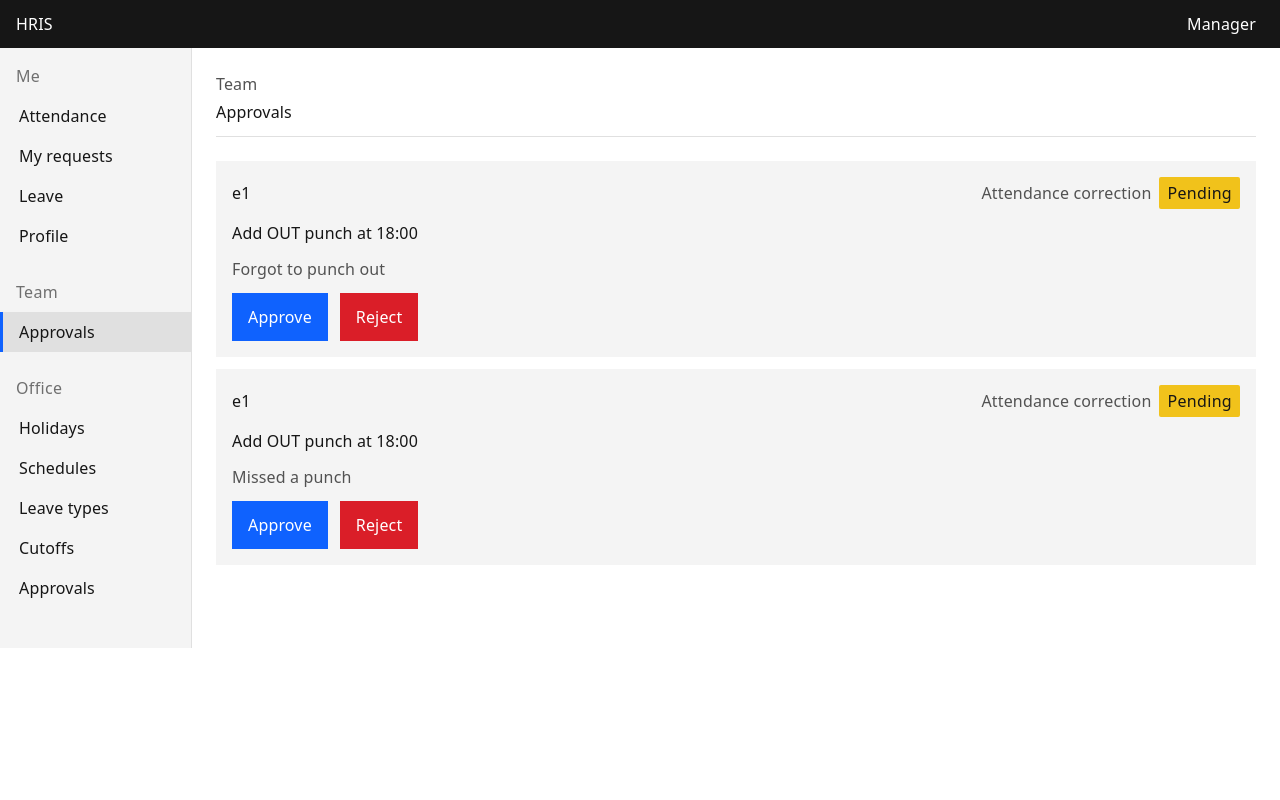
Test: /team/approvals — optimistic decide (the one place optimistic updates are allowed) › approving a request removes its card immediately, before the POST resolves
The image size is (1280, 800).
Expected: the text "Forgot to punch out" is shown, [232,258,385,280]
Expected: the text "Missed a punch" is shown, [232,466,352,488]
Click the button "Approve" below "Forgot to punch out": (280, 317) [232,293,328,341]
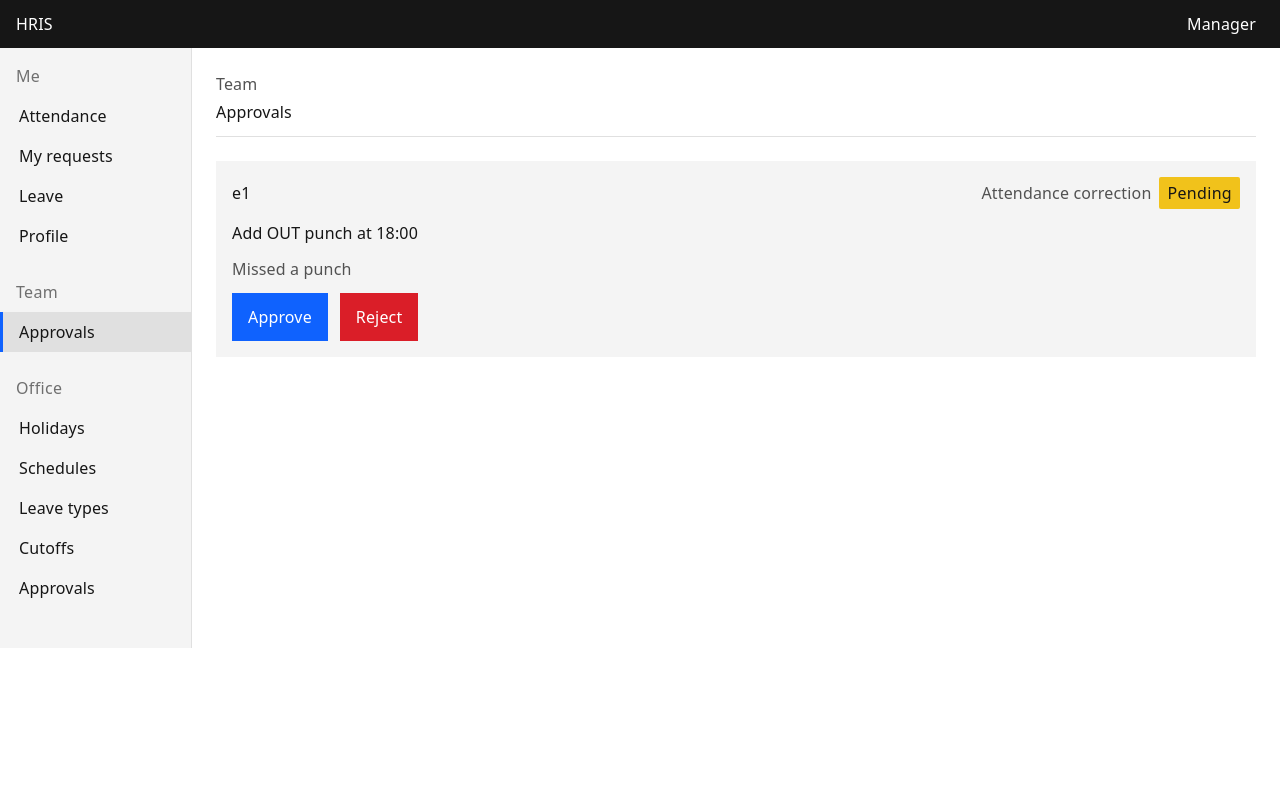
Expected: the text "Missed a punch" is shown, [232,258,352,280]
Now the text "Forgot to punch out" is gone
